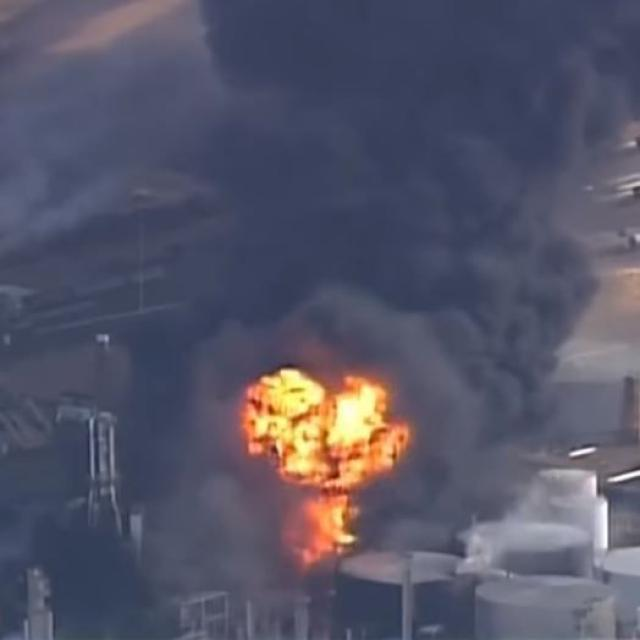Fire: (232, 350, 393, 556)
Smoke: (110, 8, 636, 544)
